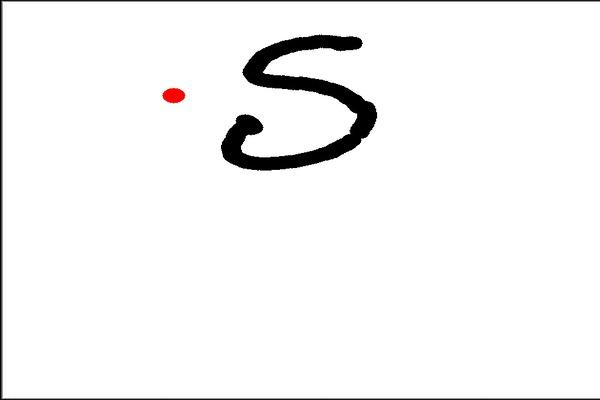S: (216, 29, 382, 174)
